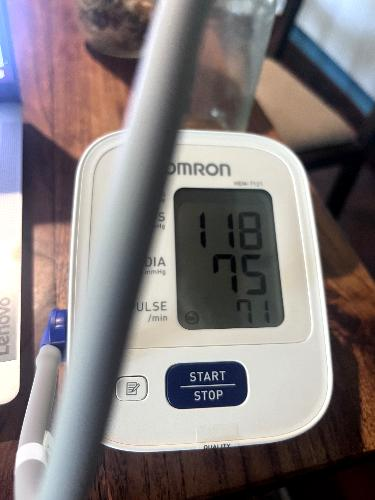bpm: (171, 181, 287, 332)
